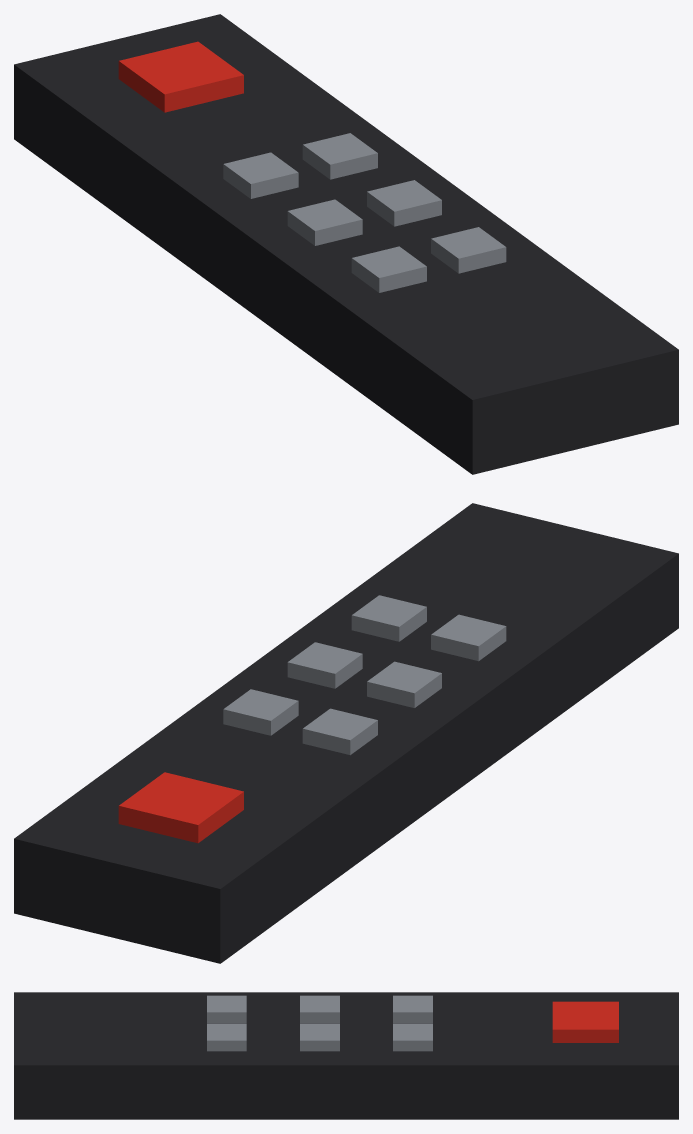
The model's file is tv_remote.glb.
3 views of the same model, one above another, from view 1: azimuth 30°, elevation 25°; view 2: azimuth 150°, elevation 25°; view 3: azimuth 270°, elevation 25° (orthographic). The views are drawn at different scales.
Parts seen in each view (by area): view 1: tv_remote; view 2: tv_remote; view 3: tv_remote.
Boxes of the visible parts, x1,y1,x2,y2 form: tv_remote: (14, 14, 678, 474); tv_remote: (14, 503, 678, 963); tv_remote: (14, 992, 678, 1119).
Bounding box in the file's own units: 0.13 × 0.056 × 0.5.
